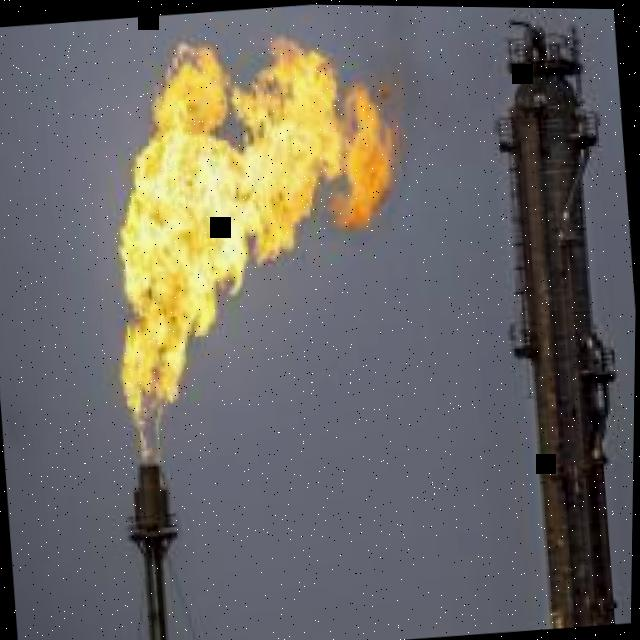fire: (120, 34, 404, 453)
